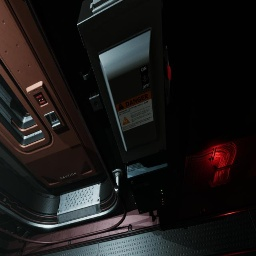SafetySwitchPanel ,: (77, 0, 171, 163)
